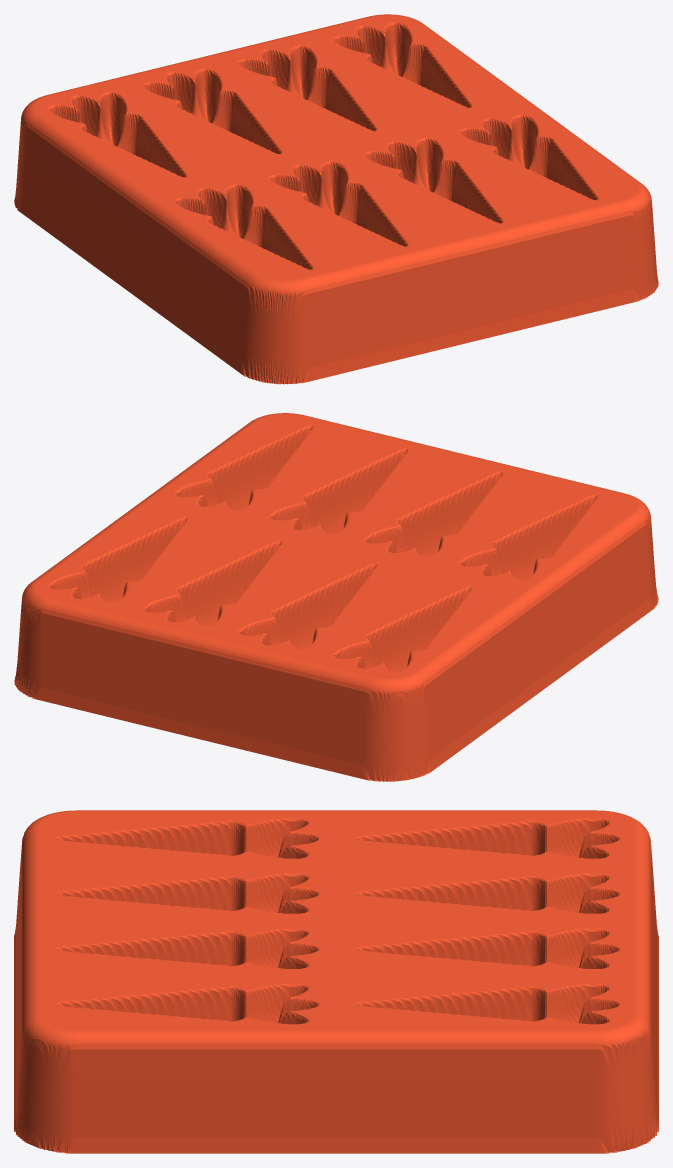
Rendered from mold.glb.
The picture shows the model from 3 angles, top to bottom: view 1: azimuth 30°, elevation 25°; view 2: azimuth 150°, elevation 25°; view 3: azimuth 270°, elevation 25°; orthographic projection. The views are drawn at different scales.
Visible parts, largest first — view 1: geometry_0; view 2: geometry_0; view 3: geometry_0.
Boxes of the visible parts, bbox=[...] form: geometry_0: bbox=[14, 14, 658, 384]; geometry_0: bbox=[14, 413, 658, 781]; geometry_0: bbox=[14, 810, 658, 1153].
Bounding box in the file's own units: 0.083 × 0.0182 × 0.0945.
